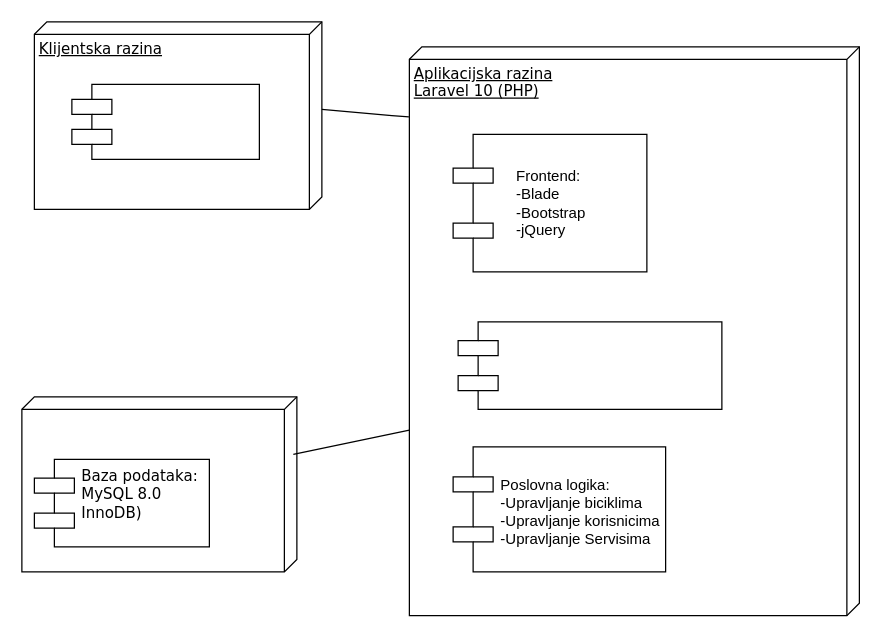
Some shapes in this 881 by 638 pixel diagram are drawn without their labels. Each missing label, with the box of its shape:
Autentifikacija/Autorizacija -Laravel Breeze: (457, 321, 722, 409)
Korisničko računalo (Web preglednik): (71, 83, 259, 159)
Podatkovna razina: (21, 396, 297, 572)
